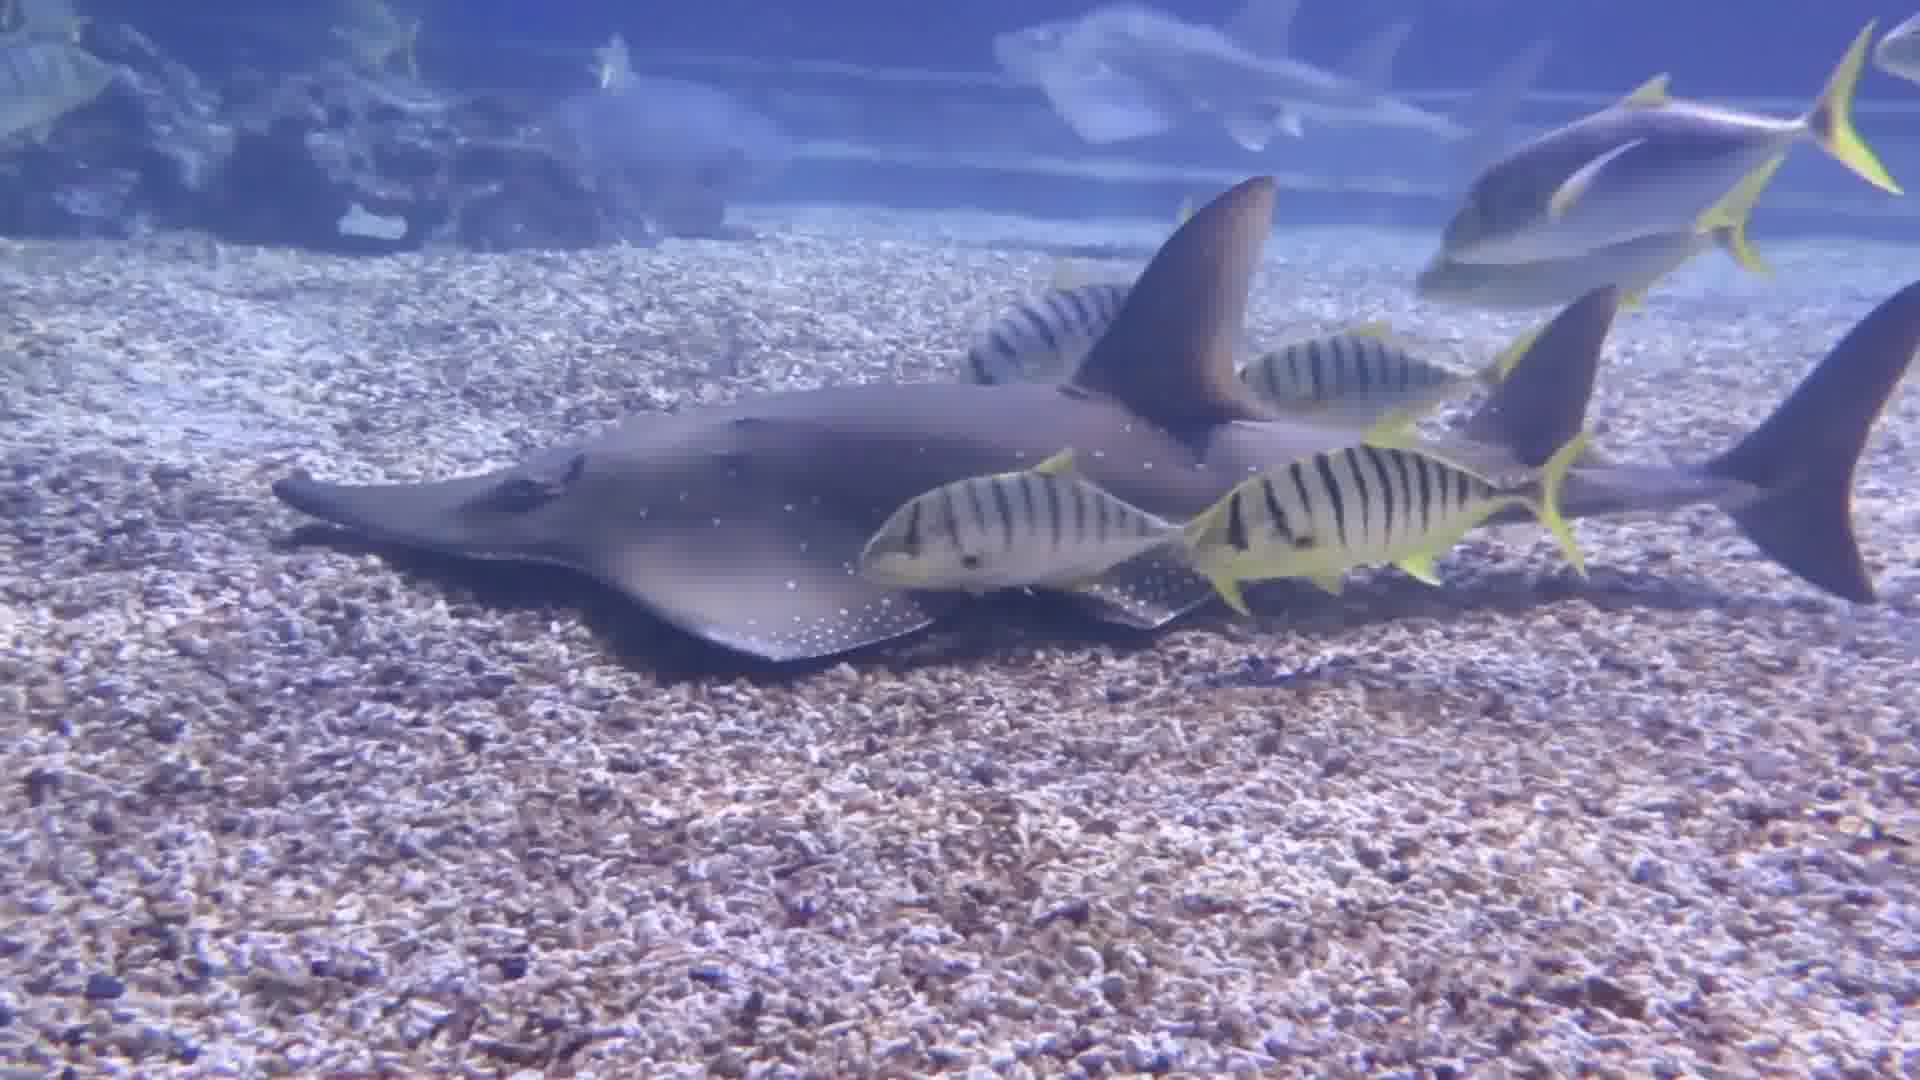Rhychobatus djiddensis: (270, 182, 1919, 661)
